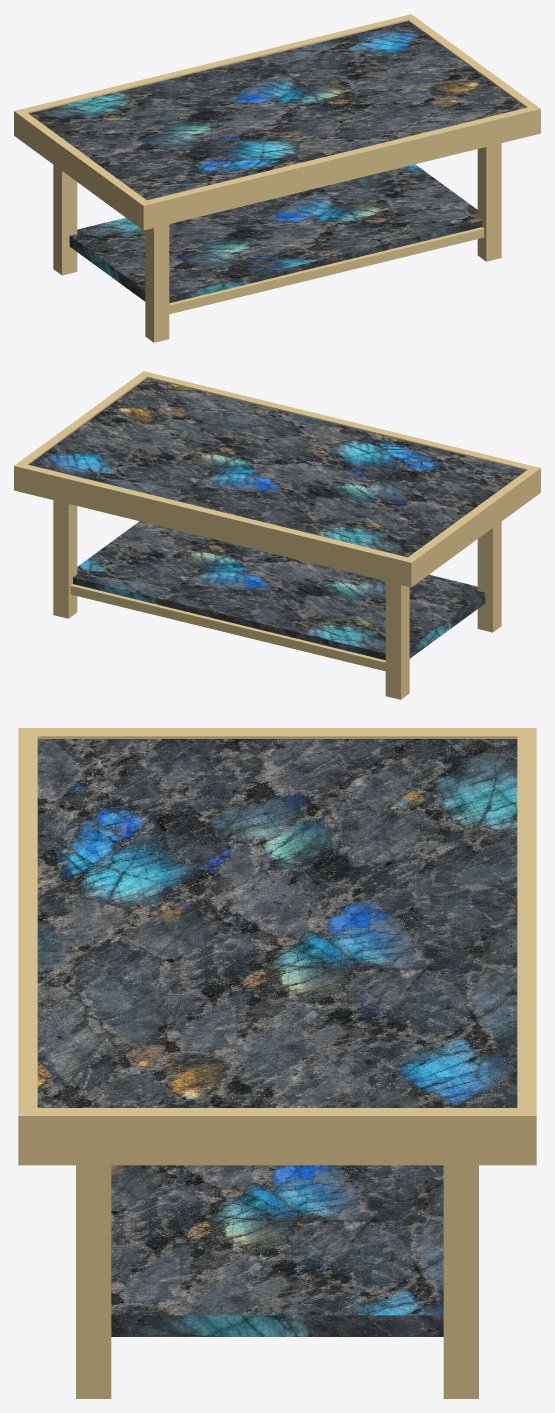
Rendered from labradorite-coffee-table.glb.
3 renders of one model, top to bottom at view 1: azimuth 30°, elevation 25°; view 2: azimuth 150°, elevation 25°; view 3: azimuth 270°, elevation 25°, orthographic. The views are drawn at different scales.
Visible parts, largest first — view 1: top, shelf, rim-n, leg (×3), rim-w, stretcher-a, rim-s, rim-e; view 2: top, shelf, rim-s, leg (×3), rim-w, stretcher-b, rim-n, rim-e; view 3: top, shelf, rim-e, leg (×2), rim-n, rim-s, rim-w.
Boxes of the visible parts, <box> form: top: <box>29,21,525,200</box>; shelf: <box>69,164,481,303</box>; rim-n: <box>138,105,540,230</box>; leg (×3): <box>53,143,501,342</box>; rim-w: <box>18,112,146,226</box>; stretcher-a: <box>169,227,484,314</box>; rim-s: <box>14,14,415,138</box>; rim-e: <box>408,17,535,107</box>; top: <box>29,378,525,557</box>; shelf: <box>73,521,485,660</box>; rim-s: <box>14,462,416,587</box>; leg (×3): <box>53,500,501,699</box>; rim-w: <box>408,469,536,583</box>; stretcher-b: <box>70,584,385,671</box>; rim-n: <box>139,371,540,495</box>; rim-e: <box>19,374,146,464</box>; top: <box>37,739,517,1107</box>; shelf: <box>111,1165,443,1336</box>; rim-e: <box>37,1108,517,1165</box>; leg (×2): <box>76,1165,478,1398</box>; rim-n: <box>18,728,37,1165</box>; rim-s: <box>517,728,536,1165</box>; rim-w: <box>37,728,517,738</box>.
Size of the model in its own units: 1.15 by 0.424 by 0.648.
Materials: 2 (1 with a texture image).
